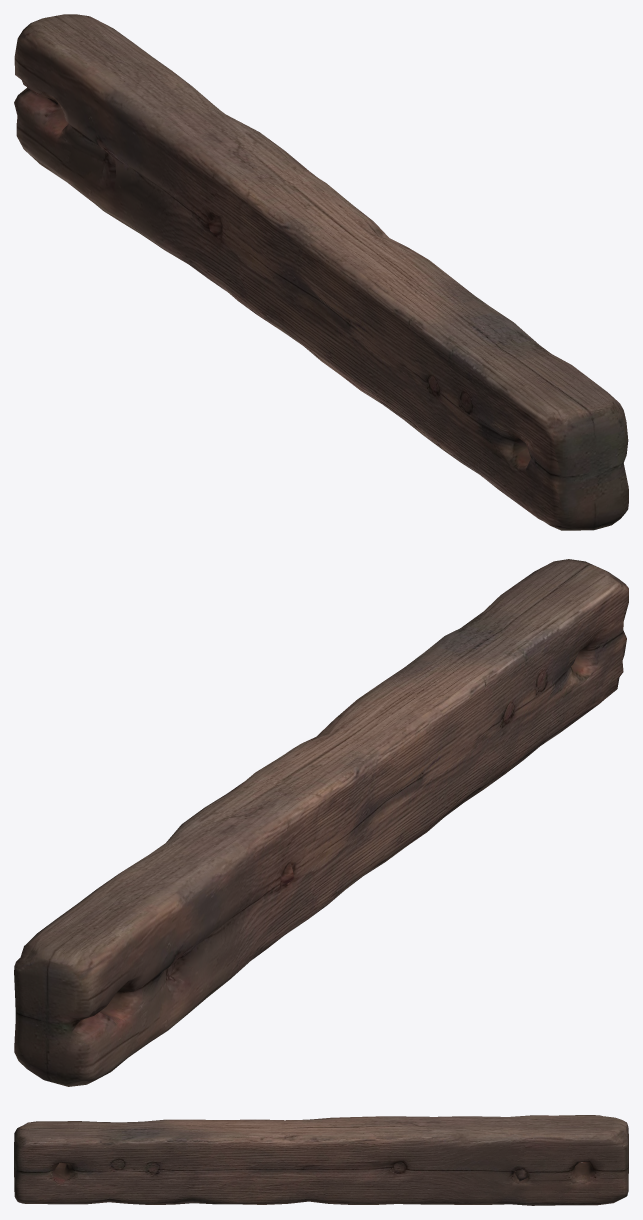
Rendered from planche.glb.
3 views of the same model, one above another, from view 1: azimuth 30°, elevation 25°; view 2: azimuth 150°, elevation 25°; view 3: azimuth 270°, elevation 25° (orthographic). The views are drawn at different scales.
Parts seen in each view (by area): view 1: tripo_node_d2ffb405-d10d-4a13-9cc5-3bc273a88068; view 2: tripo_node_d2ffb405-d10d-4a13-9cc5-3bc273a88068; view 3: tripo_node_d2ffb405-d10d-4a13-9cc5-3bc273a88068.
Part boxes in pixels (bbox=[...]): tripo_node_d2ffb405-d10d-4a13-9cc5-3bc273a88068: bbox=[14, 14, 628, 530]; tripo_node_d2ffb405-d10d-4a13-9cc5-3bc273a88068: bbox=[14, 559, 628, 1086]; tripo_node_d2ffb405-d10d-4a13-9cc5-3bc273a88068: bbox=[14, 1115, 628, 1205].
Size of the model in its own units: 0.0876 by 0.1315 by 0.9804.
Materials: 1 (1 with a texture image).
